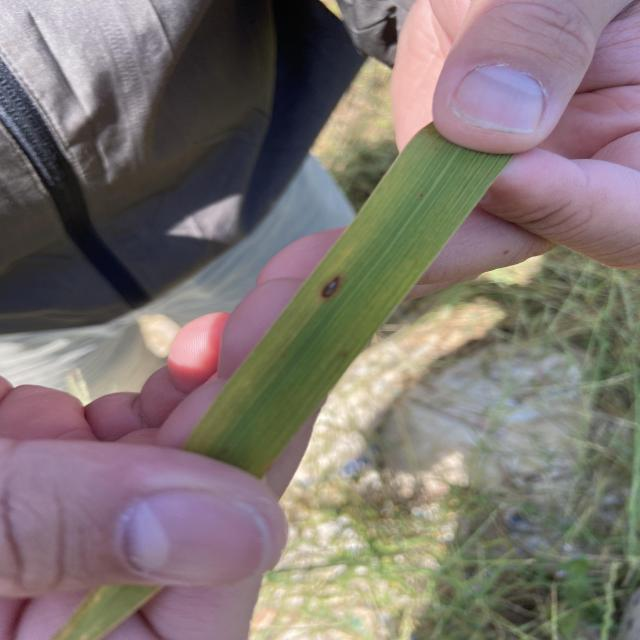Dom nau: (319, 274, 343, 300)
